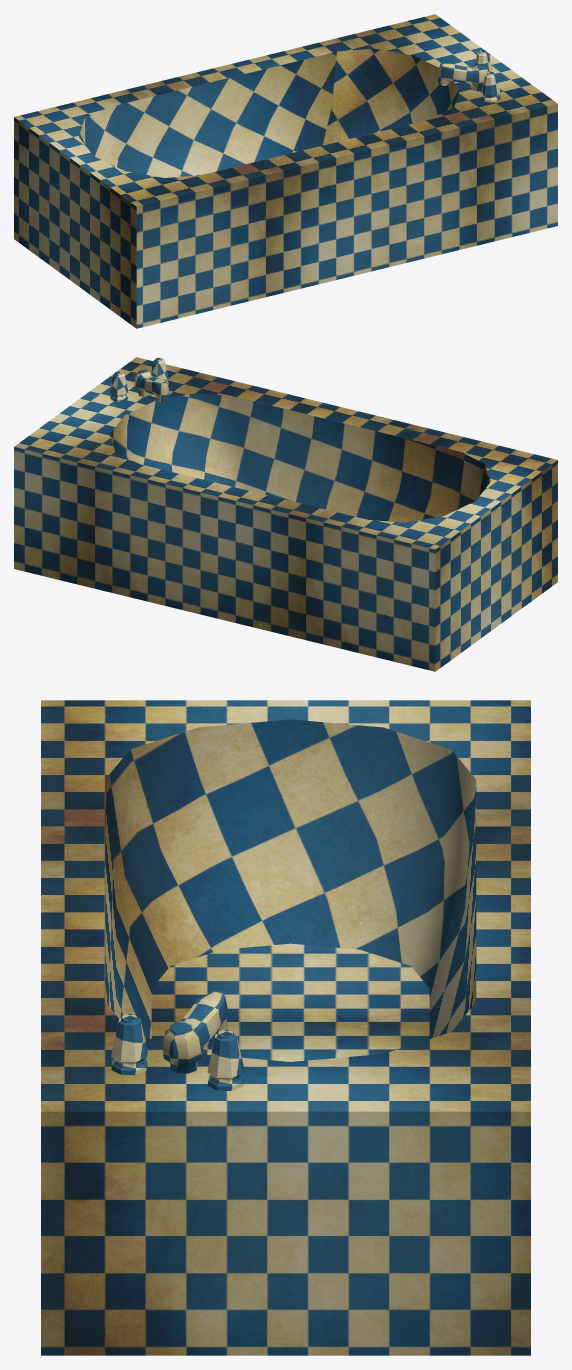
Rendered from Bathtub.fbx.
3 views of the same model, one above another, from view 1: azimuth 30°, elevation 25°; view 2: azimuth 150°, elevation 25°; view 3: azimuth 270°, elevation 25° (orthographic). The views are drawn at different scales.
Visible parts, largest first — view 1: Bathtub; view 2: Bathtub; view 3: Bathtub.
Boxes of the visible parts, x1,y1,x2,y2 form: Bathtub: (14, 14, 557, 328); Bathtub: (14, 357, 557, 671); Bathtub: (41, 700, 530, 1355).
Bounding box in the file's own units: 0.0337 × 0.0113 × 0.017.
